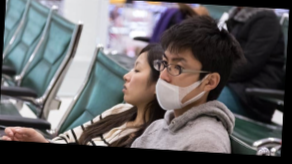with_mask: (153, 51, 200, 110)
without_mask: (121, 57, 151, 103)
